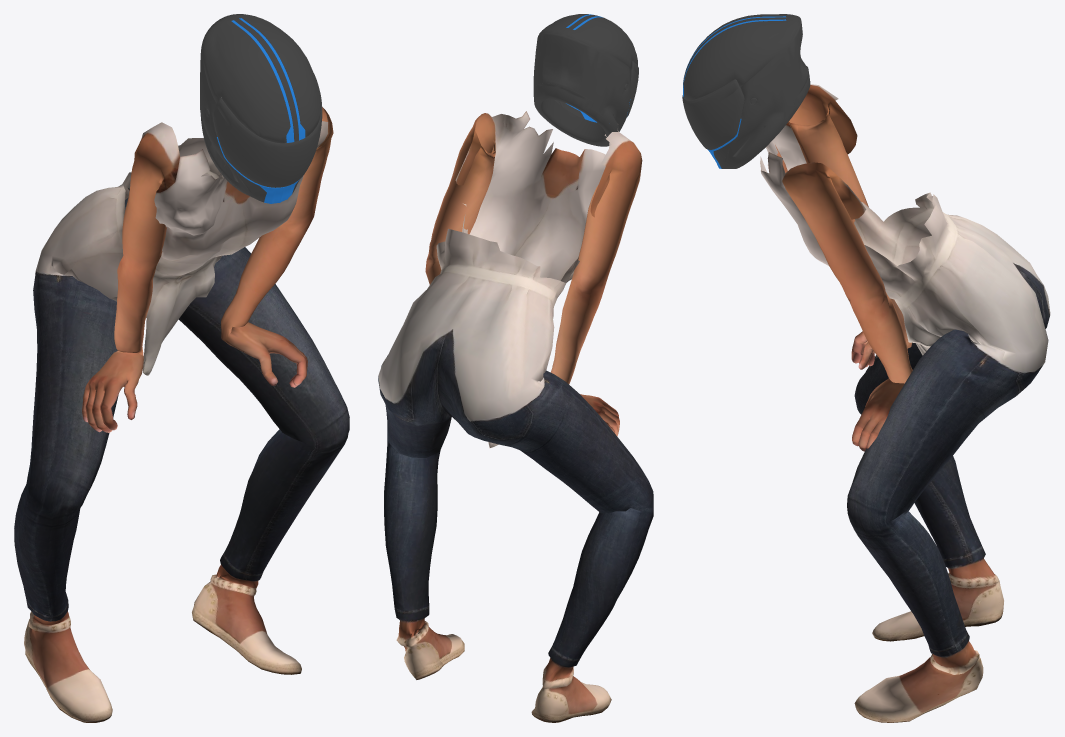
The picture shows the model from 3 angles, left to right: view 1: azimuth 30°, elevation 25°; view 2: azimuth 150°, elevation 25°; view 3: azimuth 270°, elevation 25°; orthographic projection. The views are drawn at different scales.
Visible parts, largest first — view 1: rider, helmet; view 2: rider, helmet; view 3: rider, helmet.
Part boxes in pixels (x1,y1,x2,y2): rider: (14, 107, 349, 722); helmet: (200, 14, 322, 203); rider: (378, 111, 653, 722); helmet: (533, 14, 638, 146); rider: (760, 84, 1050, 722); helmet: (682, 14, 810, 168).
Size of the model in its own units: 0.6346 by 1.4 by 0.7123.
Materials: 2 (2 with a texture image).
